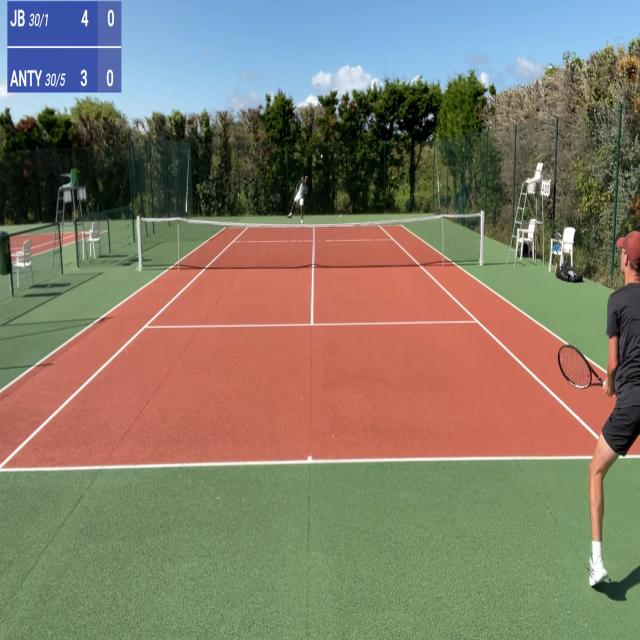ball: (320, 154, 323, 159), (339, 214, 342, 218)
